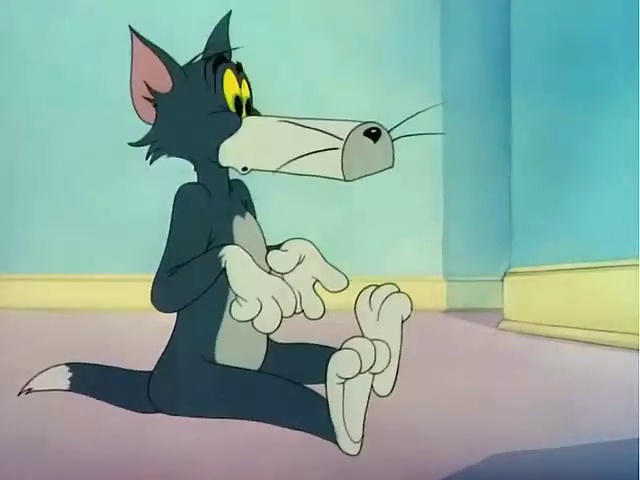tom: (20, 21, 425, 459)
